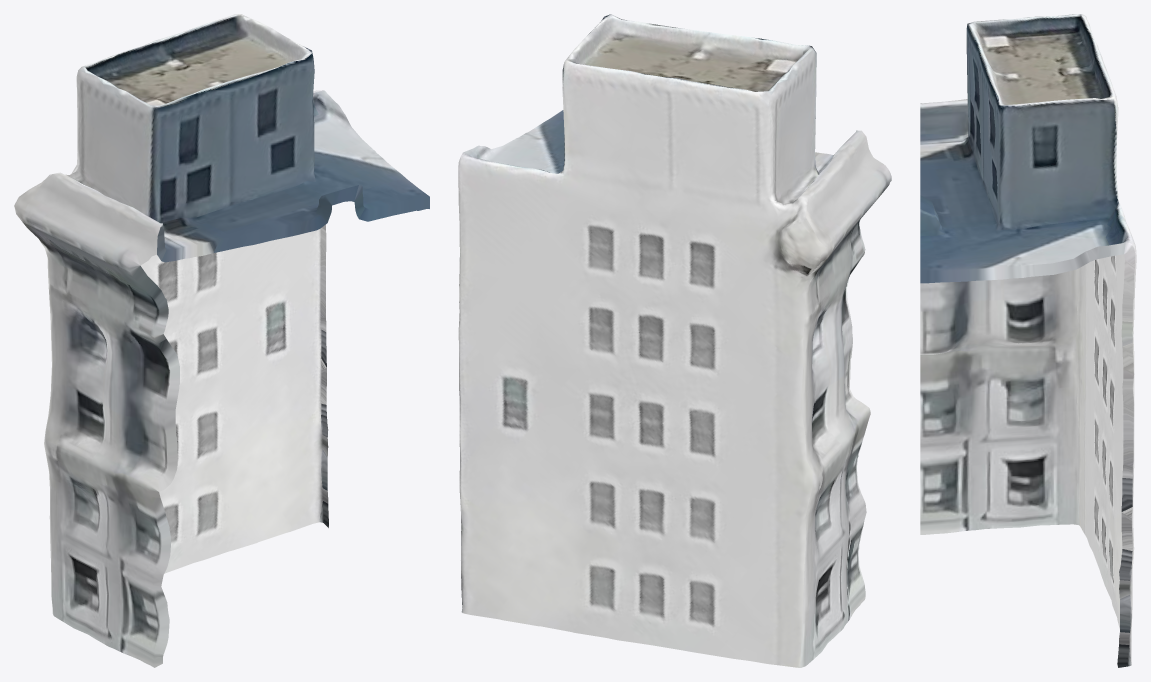
File: z20-167755-405245-h1-yup-uvflip-v3-world.glb
3 views of the same model, side by side, from view 1: azimuth 30°, elevation 25°; view 2: azimuth 150°, elevation 25°; view 3: azimuth 270°, elevation 25° (orthographic). The views are drawn at different scales.
Size of the model in its own units: 17.56 by 27.68 by 10.28.
Materials: 1 (1 with a texture image).
